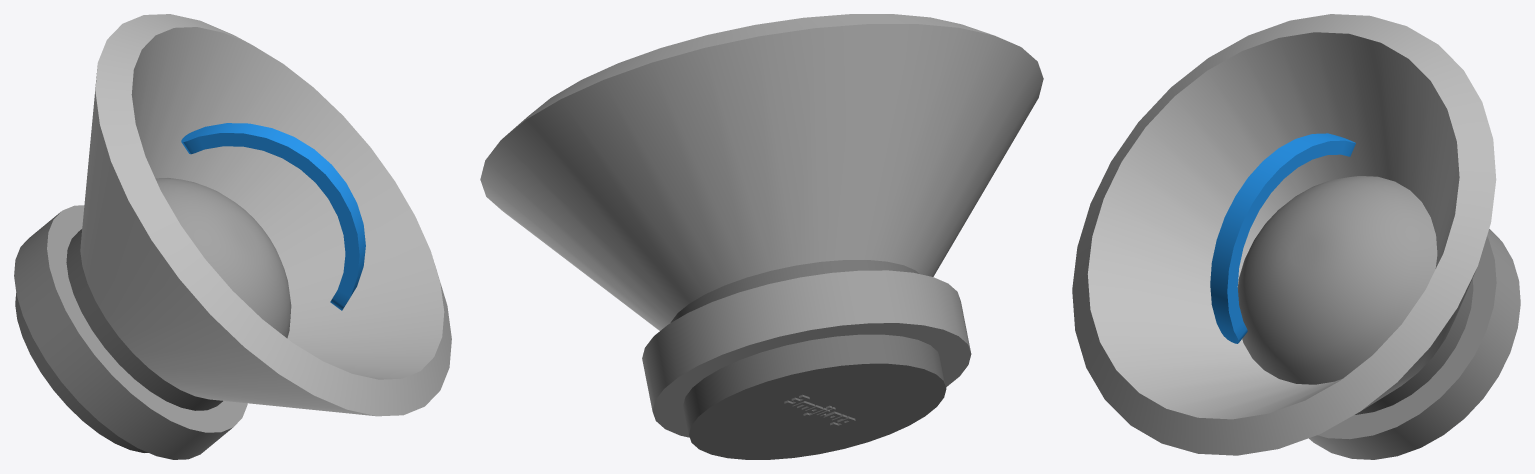
The model's file is speaker_medium_volume.fbx.
The picture shows the model from 3 angles, left to right: view 1: azimuth 30°, elevation 25°; view 2: azimuth 150°, elevation 25°; view 3: azimuth 270°, elevation 25°; orthographic projection. The views are drawn at different scales.
Visible parts, largest first — view 1: Circle.2546; view 2: Circle.2546; view 3: Circle.2546.
Part boxes in pixels (x1,y1,x2,y2): Circle.2546: (14,14,451,459); Circle.2546: (480,14,1043,459); Circle.2546: (1072,14,1520,459).
Size of the model in its own units: 211 by 205 by 211.
1 material, 1 textured.
